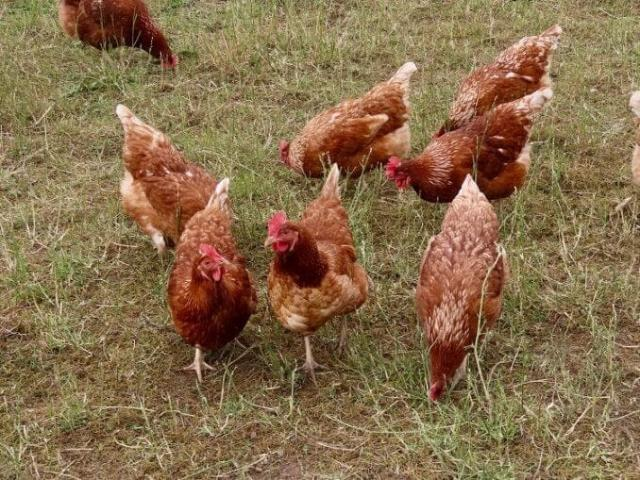Chicken: (262, 163, 371, 372), (418, 173, 508, 412), (384, 85, 552, 202), (166, 177, 256, 382), (276, 61, 416, 185), (432, 24, 561, 139), (117, 107, 216, 256), (58, 0, 180, 73)
